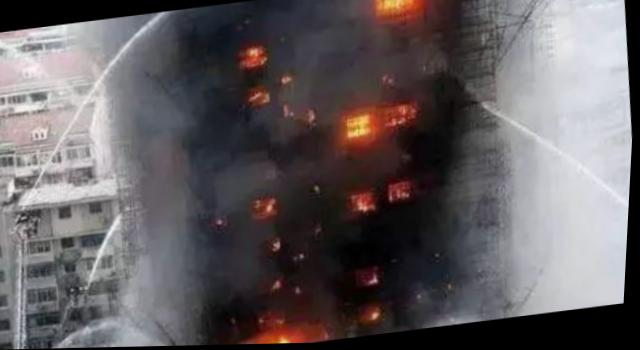fire: (245, 322, 322, 344), (376, 101, 424, 133), (344, 107, 381, 148), (375, 0, 430, 20), (240, 43, 272, 70), (351, 187, 381, 215), (389, 180, 416, 203), (259, 198, 285, 221), (249, 87, 277, 108)
